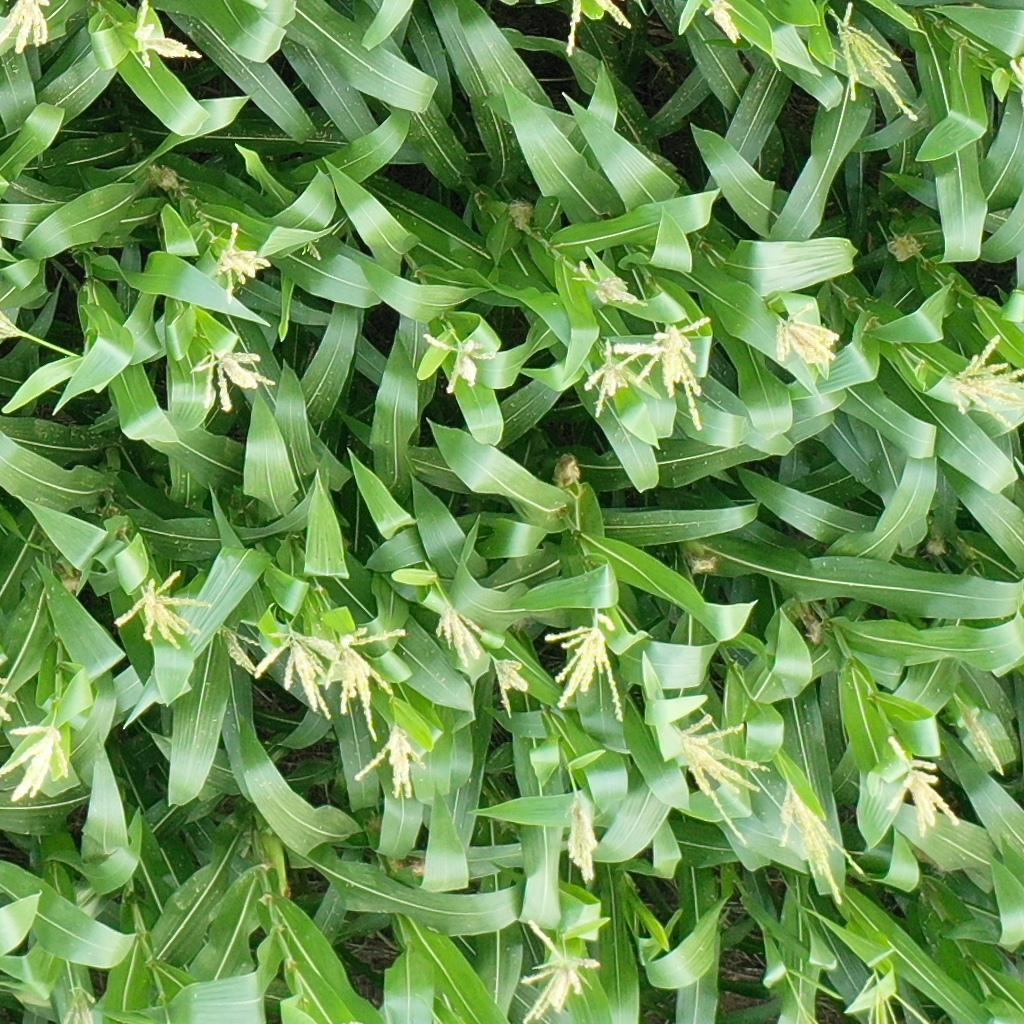Tassel: (676, 714, 770, 849), (613, 316, 715, 434), (823, 1, 922, 122), (781, 781, 867, 907), (323, 624, 407, 745), (545, 611, 627, 723), (256, 615, 339, 725), (514, 918, 599, 1024), (946, 330, 1024, 438), (112, 569, 213, 651), (882, 734, 961, 838), (352, 724, 428, 805), (189, 346, 277, 414), (1, 726, 73, 805), (581, 334, 643, 420), (210, 223, 273, 305), (422, 329, 497, 397), (133, 1, 203, 70), (773, 313, 843, 379), (859, 965, 930, 1024), (562, 790, 603, 887), (955, 699, 1006, 776), (567, 1, 633, 60), (576, 258, 647, 310), (434, 602, 488, 670), (1, 1, 57, 60), (492, 656, 532, 720), (219, 619, 262, 678), (702, 1, 748, 45), (60, 985, 97, 1024), (1, 675, 18, 726), (300, 230, 324, 263), (1, 311, 24, 342)
